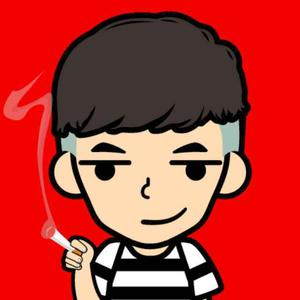cigarette: (44, 226, 85, 260)
